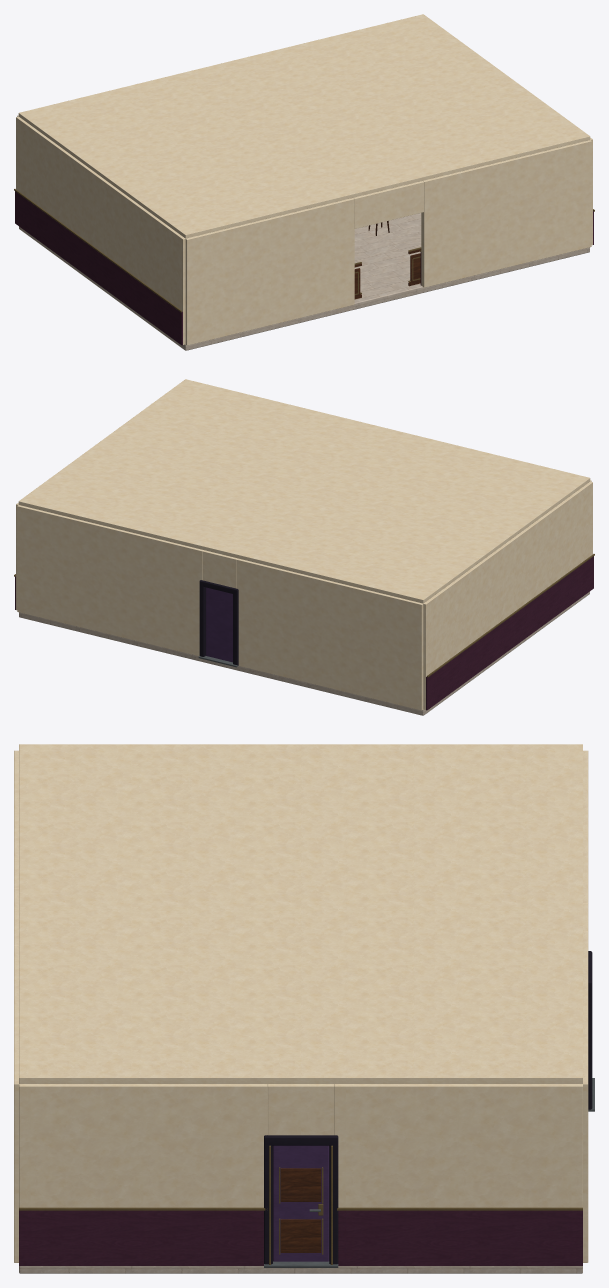
The model's file is explore3d__dream_lobby.glb.
3 renders of one model, top to bottom at view 1: azimuth 30°, elevation 25°; view 2: azimuth 150°, elevation 25°; view 3: azimuth 270°, elevation 25°, orthographic. The views are drawn at different scales.
Visible parts, largest first — view 1: ceiling.023, wall.059, wall.060, wall.063, dream_lobby_floor, lower_panel.062, door_lintel.014, panel_rail.062; view 2: ceiling.023, wall.061, wall.062, wall.063, lower_panel.062, dream_lobby_floor, north.011_leaf, door_lintel.015, panel_rail.062, north.011_jamb.001; view 3: ceiling.023, wall.064, wall.065, lower_panel.063, lower_panel.064, dream_lobby_floor, east.011_leaf, door_lintel.016, wall.062, wall.059, east.011_recessed_panel.001, east.011_recessed_panel (+7 smaller).
Boxes of the visible parts, x1,y1,x2,y2 form: ceiling.023: (18,14,590,238); wall.059: (421,140,591,287); wall.060: (185,198,354,345); wall.063: (16,116,185,344); dream_lobby_floor: (19,213,589,350); lower_panel.062: (15,191,182,345); door_lintel.014: (353,181,423,228); panel_rail.062: (14,189,181,312); ceiling.023: (18,379,590,603); wall.061: (236,558,423,710); wall.062: (17,505,203,655); wall.063: (423,481,592,709); lower_panel.062: (426,556,593,710); dream_lobby_floor: (19,591,589,715); north.011_leaf: (206,587,232,662); door_lintel.015: (202,550,237,588); panel_rail.062: (427,554,594,677); north.011_jamb.001: (199,583,205,656); ceiling.023: (19,744,582,1083); wall.064: (19,1084,267,1207); wall.065: (334,1084,582,1207); lower_panel.063: (19,1210,263,1265); lower_panel.064: (338,1210,582,1265); dream_lobby_floor: (19,1266,582,1273); east.011_leaf: (273,1145,329,1261); door_lintel.016: (268,1084,334,1135); wall.062: (583,931,588,1262); wall.059: (14,946,18,1262); east.011_recessed_panel.001: (280,1168,321,1201); east.011_recessed_panel: (280,1219,321,1252).
Size of the model in its own units: 14.37 by 3.84 by 10.3.
13 materials, 12 textured.
